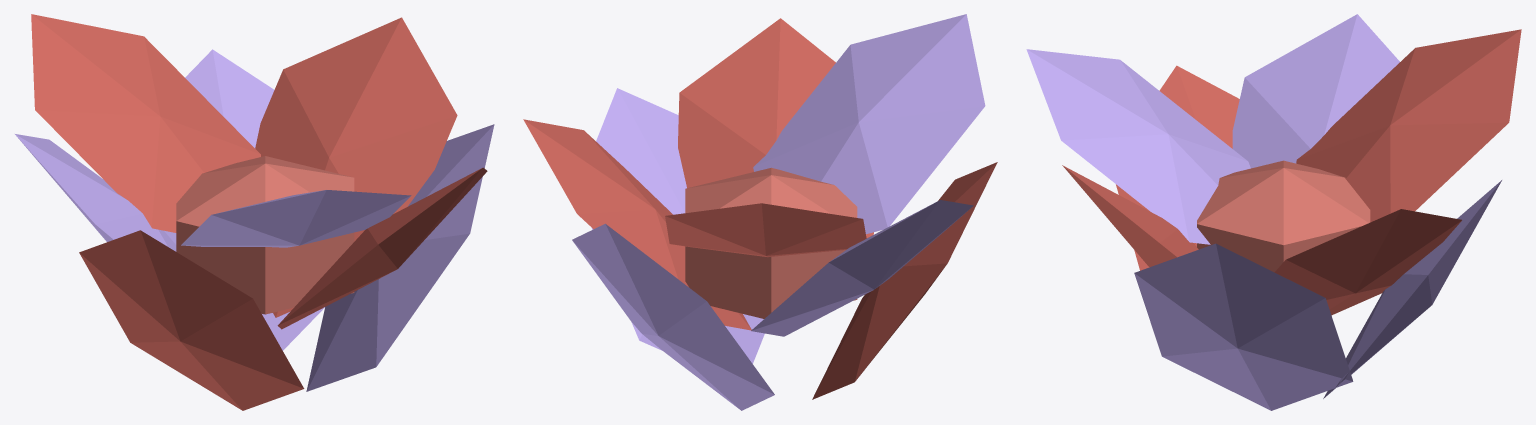
Rendered from deco_desert_rose.obj.
3 renders of one model, left to right at view 1: azimuth 30°, elevation 25°; view 2: azimuth 150°, elevation 25°; view 3: azimuth 270°, elevation 25°, orthographic. The views are drawn at different scales.
Visible parts, largest first — view 1: deco_desert_rose; view 2: deco_desert_rose; view 3: deco_desert_rose.
Boxes of the visible parts, x1=… form: deco_desert_rose: x1=15, y1=14, x2=494, y2=410; deco_desert_rose: x1=523, y1=14, x2=997, y2=410; deco_desert_rose: x1=1026, y1=14, x2=1521, y2=410.
Bounding box in the file's own units: 0.0239 × 0.0178 × 0.0257.
1 material, 1 textured.
